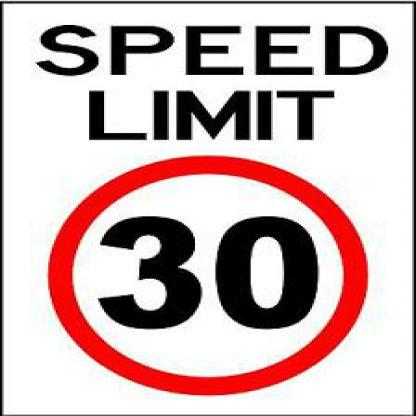Speed Limit 30: (51, 155, 369, 397)
